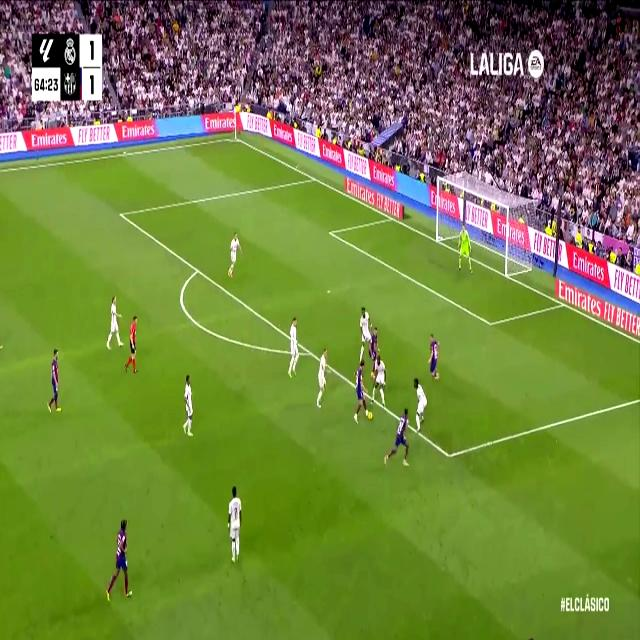bigarea_bottom_inner: (444, 442, 454, 468)
bigarea_top_inner: (116, 204, 125, 223)
bigarea_top_outter: (310, 171, 318, 185)
corner: (231, 133, 241, 143)
smallarea_bottom_inner: (486, 313, 494, 334)
top_arc_area_intersection: (193, 260, 202, 278)
